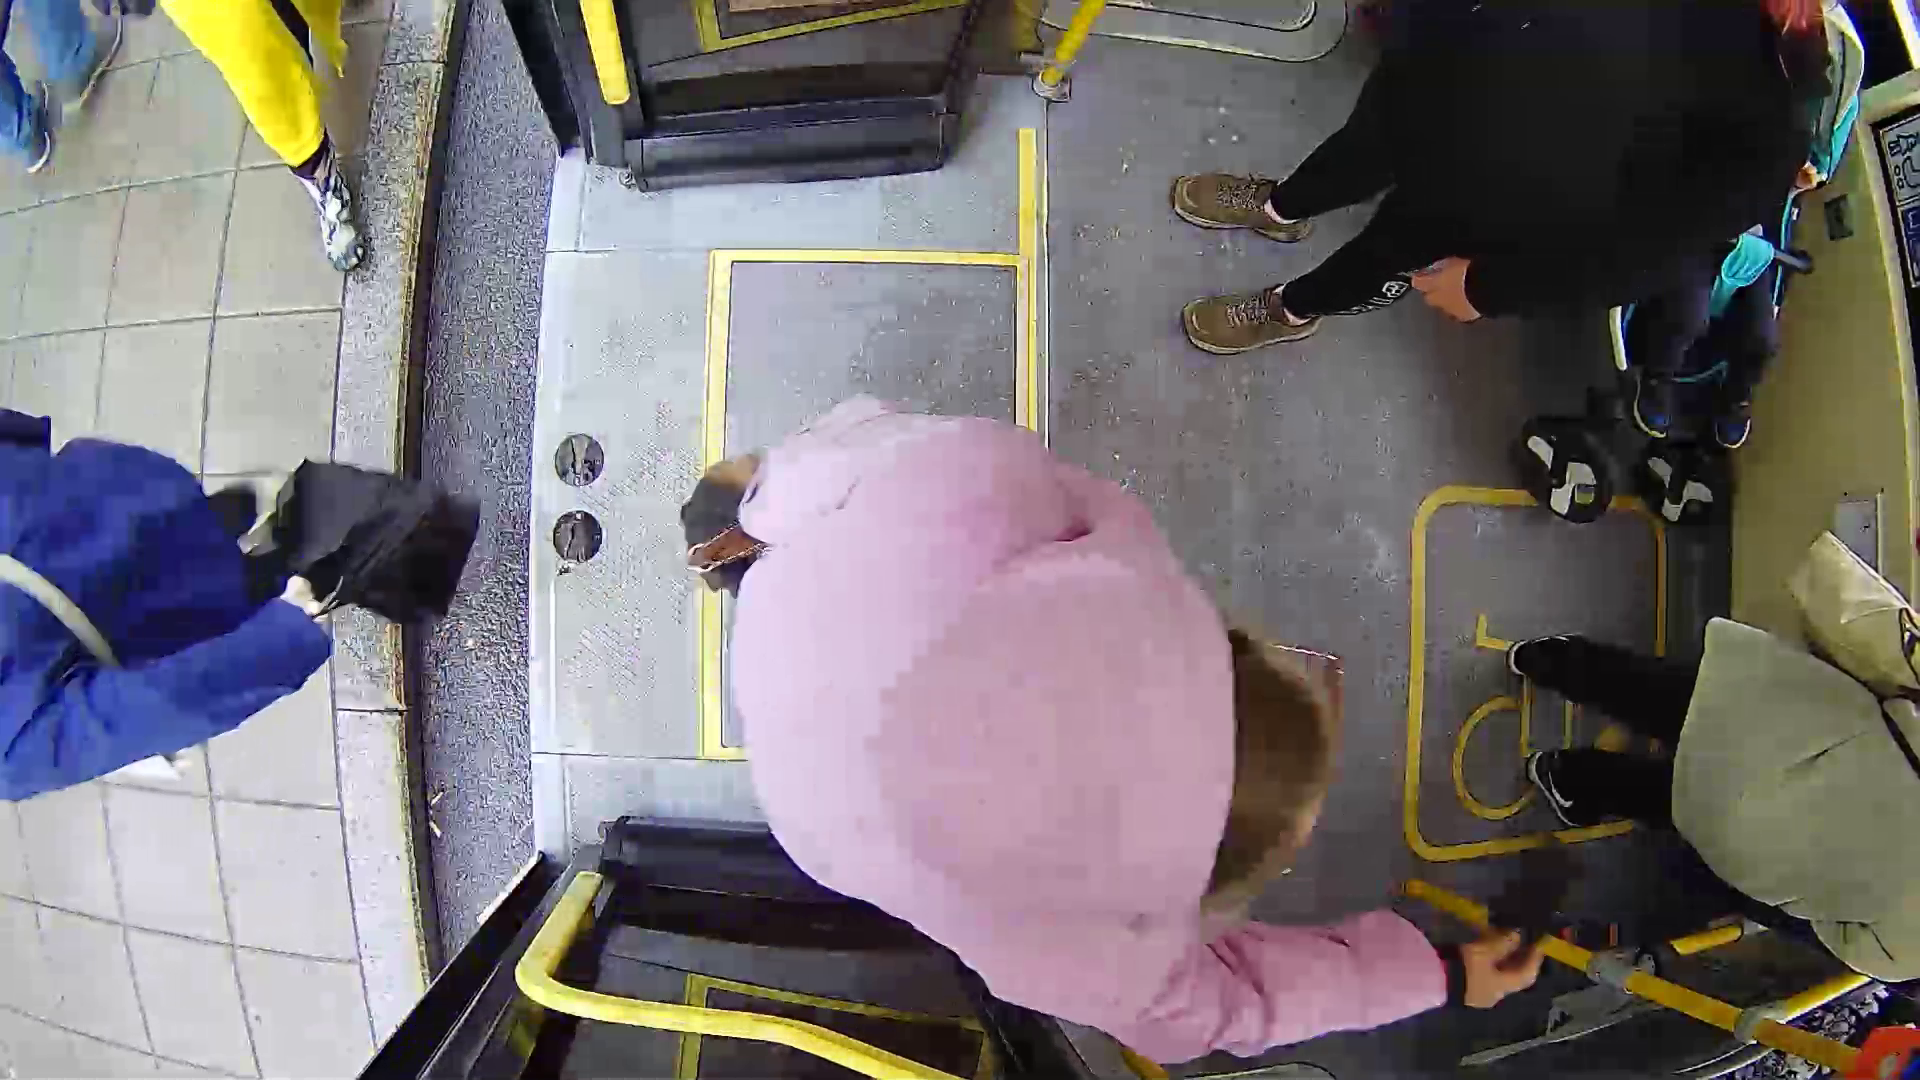person: (691, 385, 1495, 1061)
